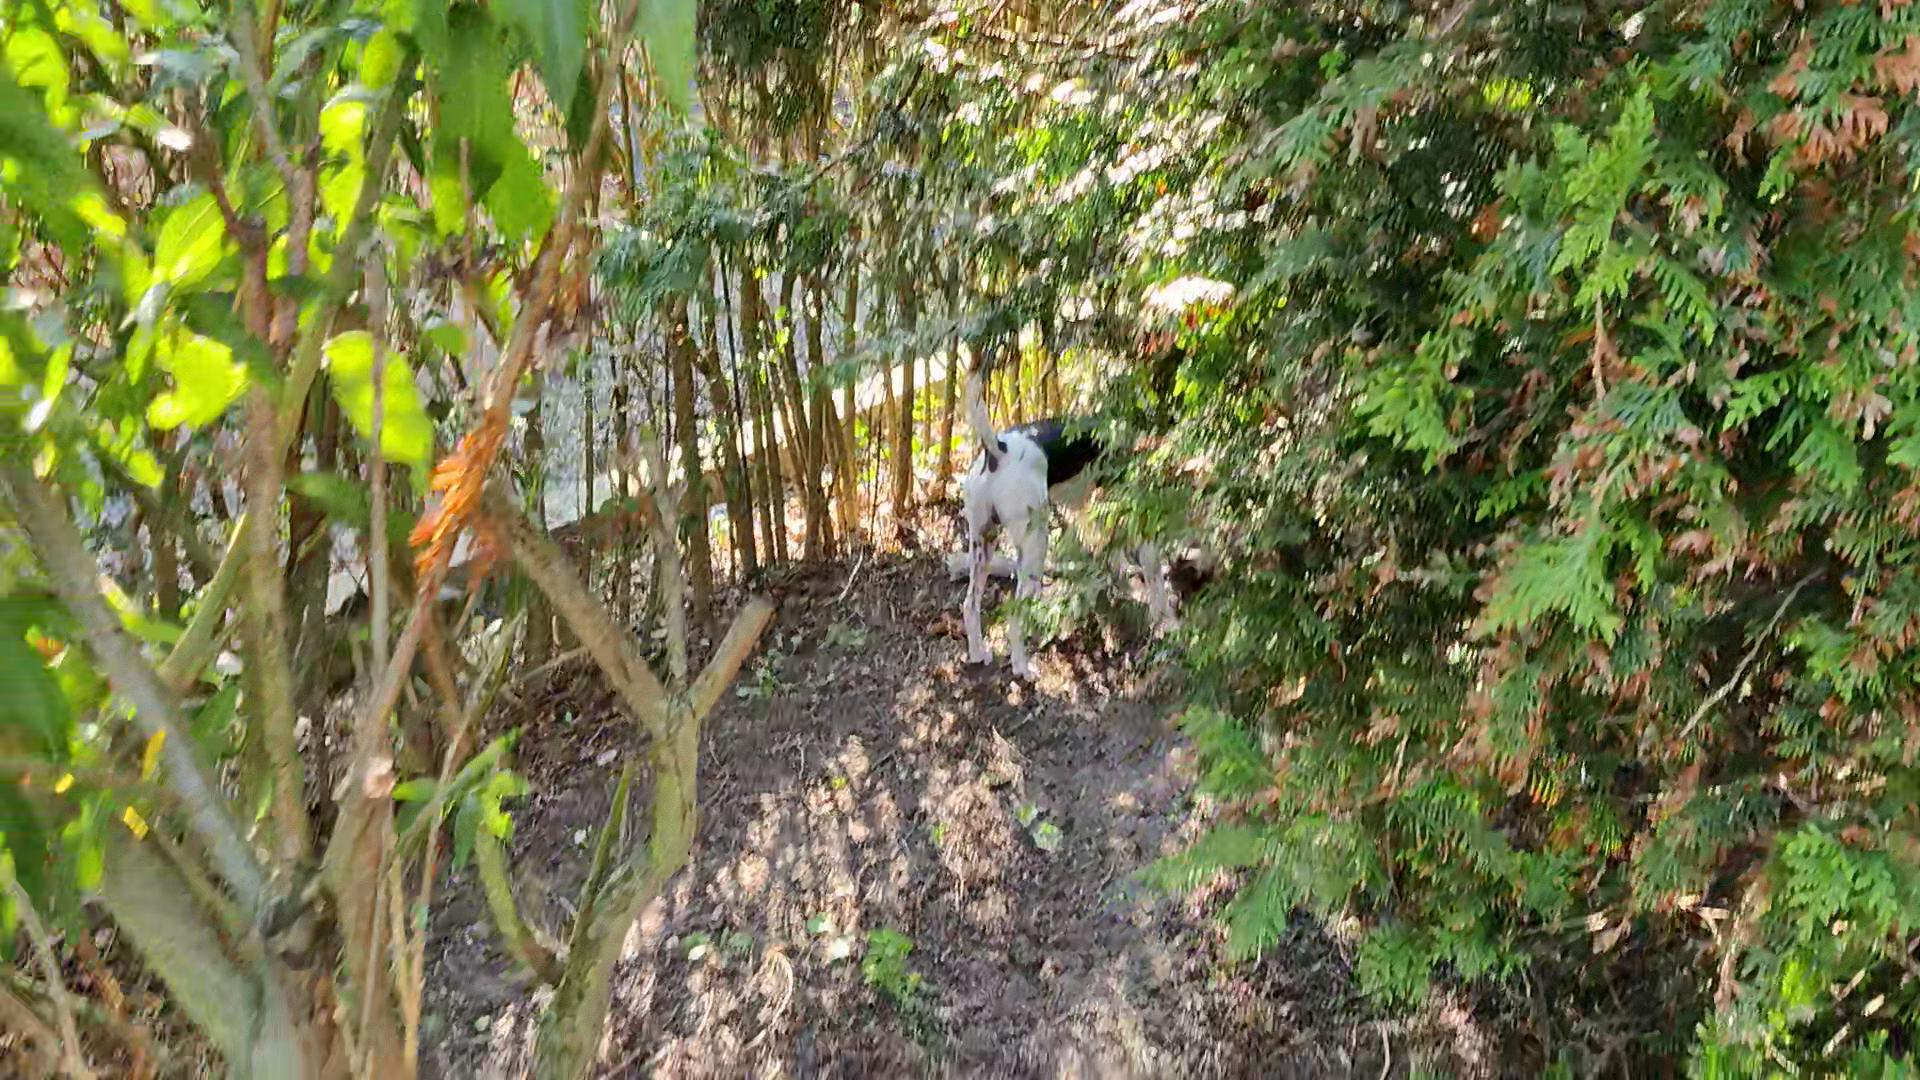Dog: (943, 340, 1185, 680)
